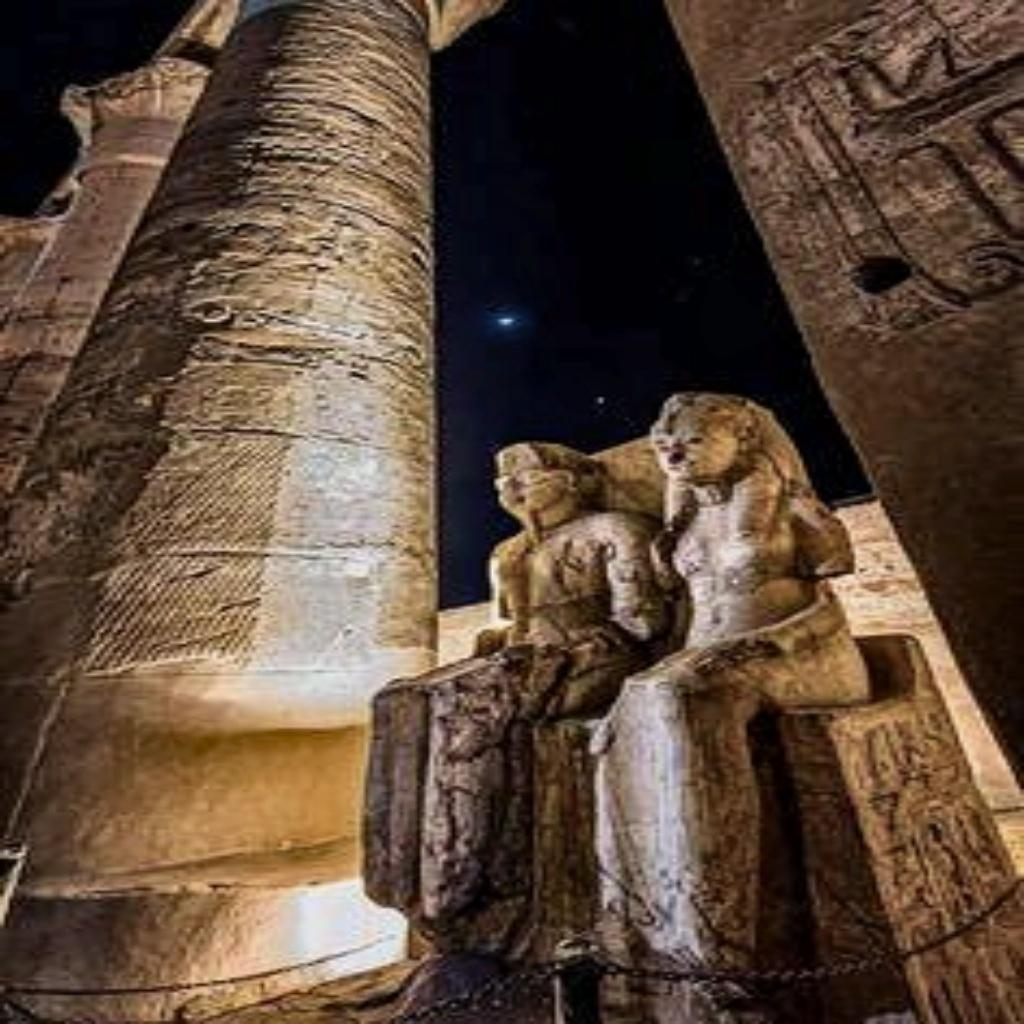Statue of Ankhesenamun: (578, 386, 876, 972)
Statue of Tutankhamun: (363, 435, 663, 925)
